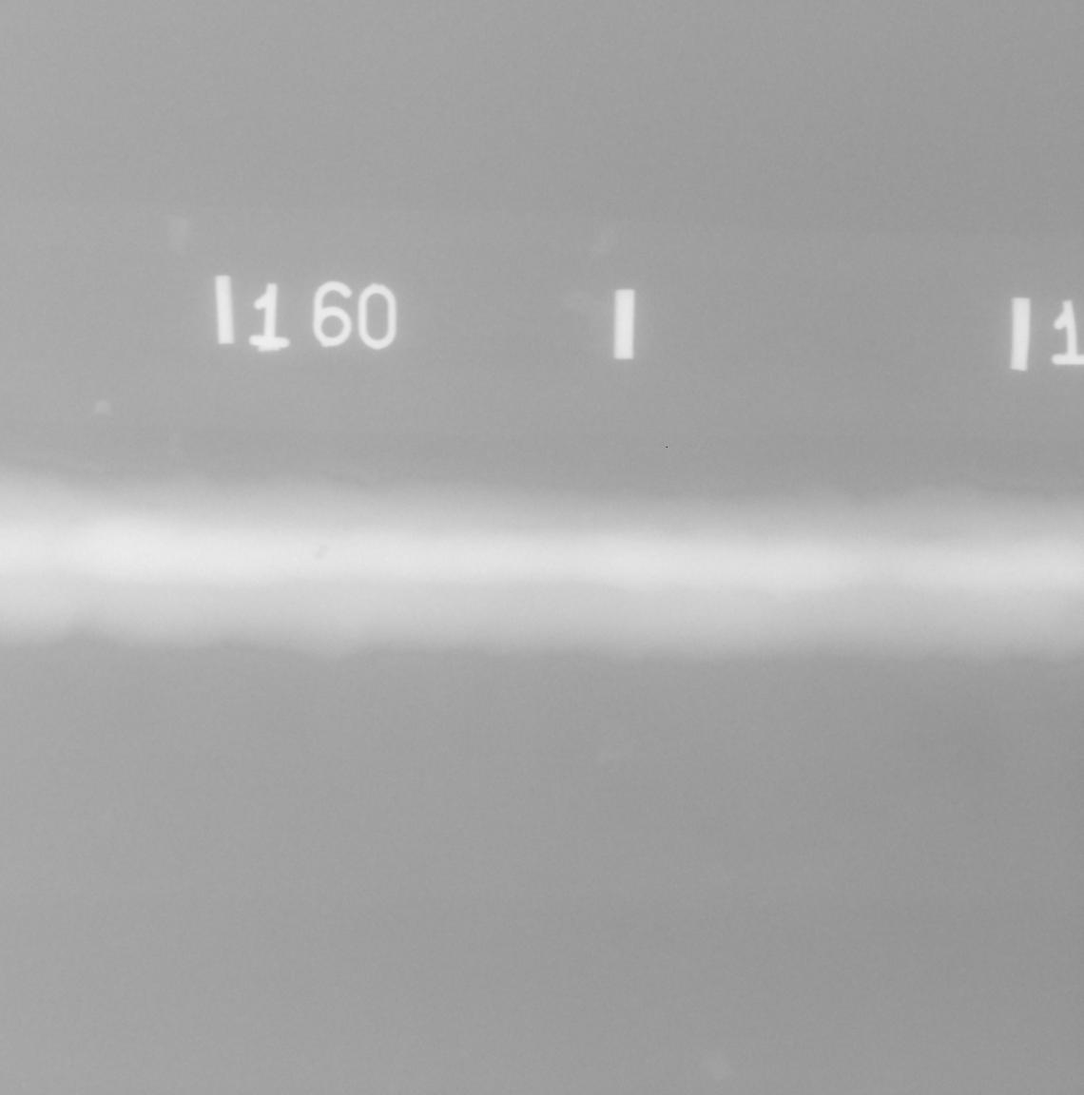Inclusion: (315, 544, 327, 560), (145, 503, 167, 510)
